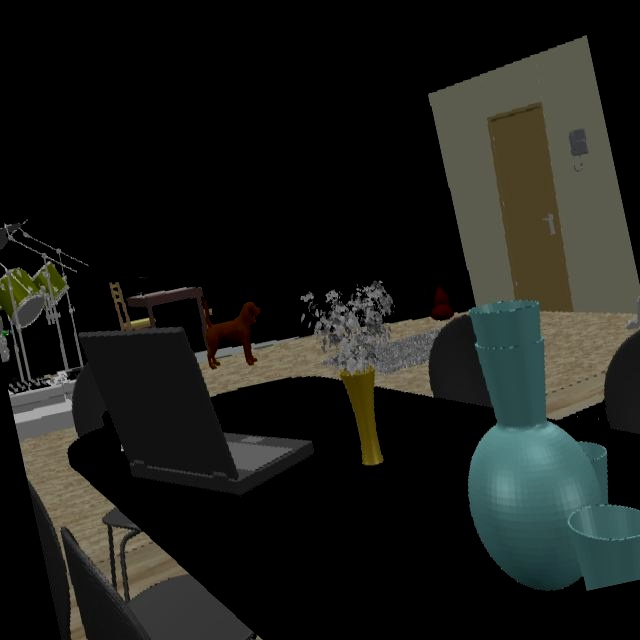chair: (61, 527, 254, 640), (428, 316, 491, 405), (604, 330, 640, 435), (109, 281, 151, 329)
laptop: (80, 327, 312, 494)
table: (68, 377, 551, 640), (126, 287, 208, 347)
